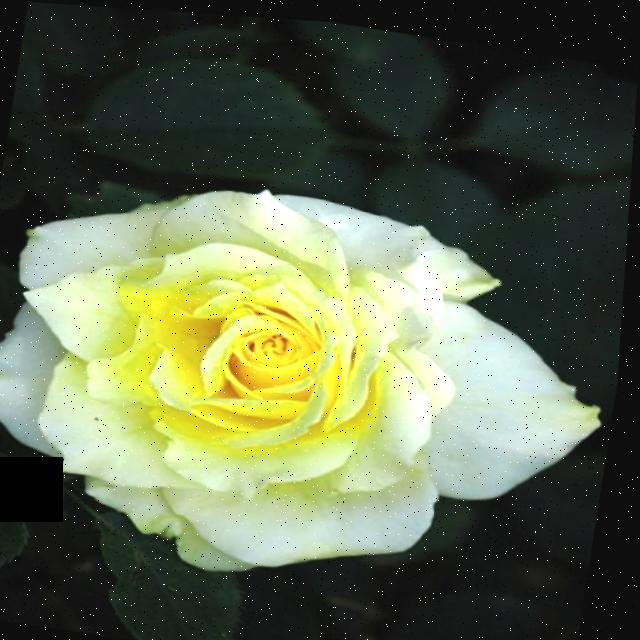rose: (0, 136, 619, 618)
